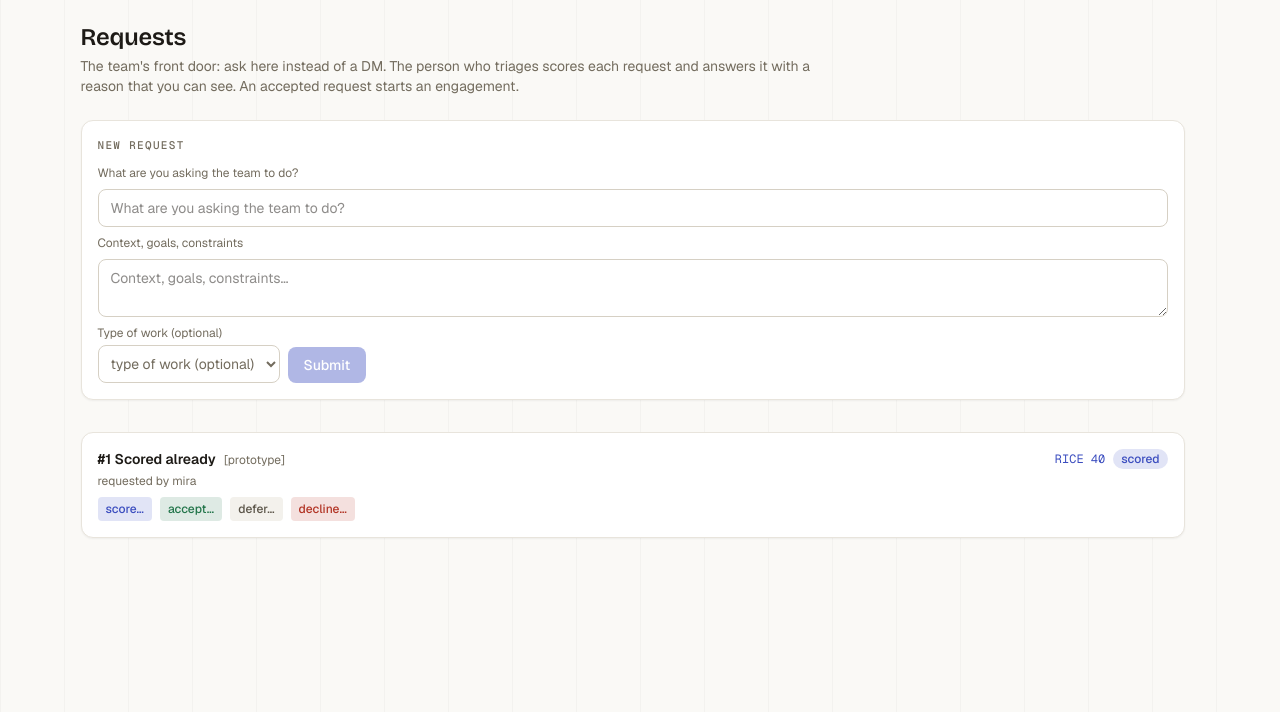
the assumed percent stays inside what the service accepts › clamps above 100 back to 100
Click the button "accept…" at (191, 509), box [160,497,222,521]
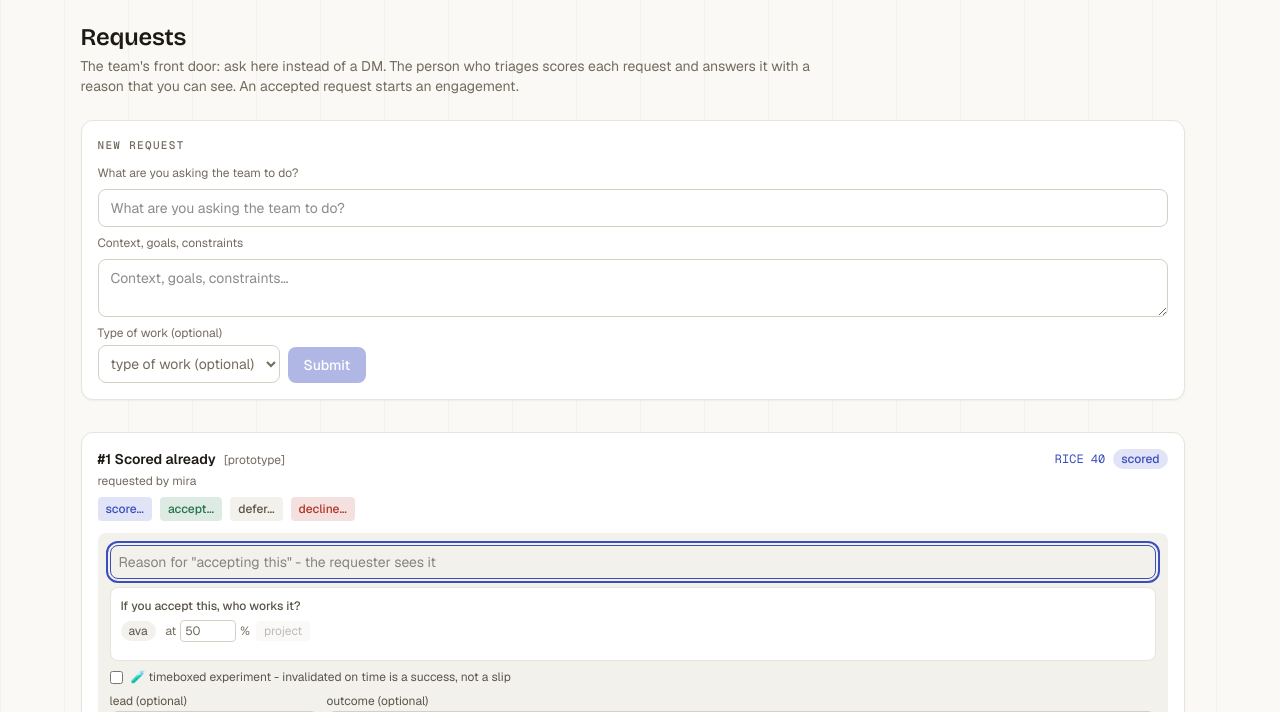
Replace the text in the number field named "Percent of each person" with "400" at (208, 631), box [180,620,236,642]
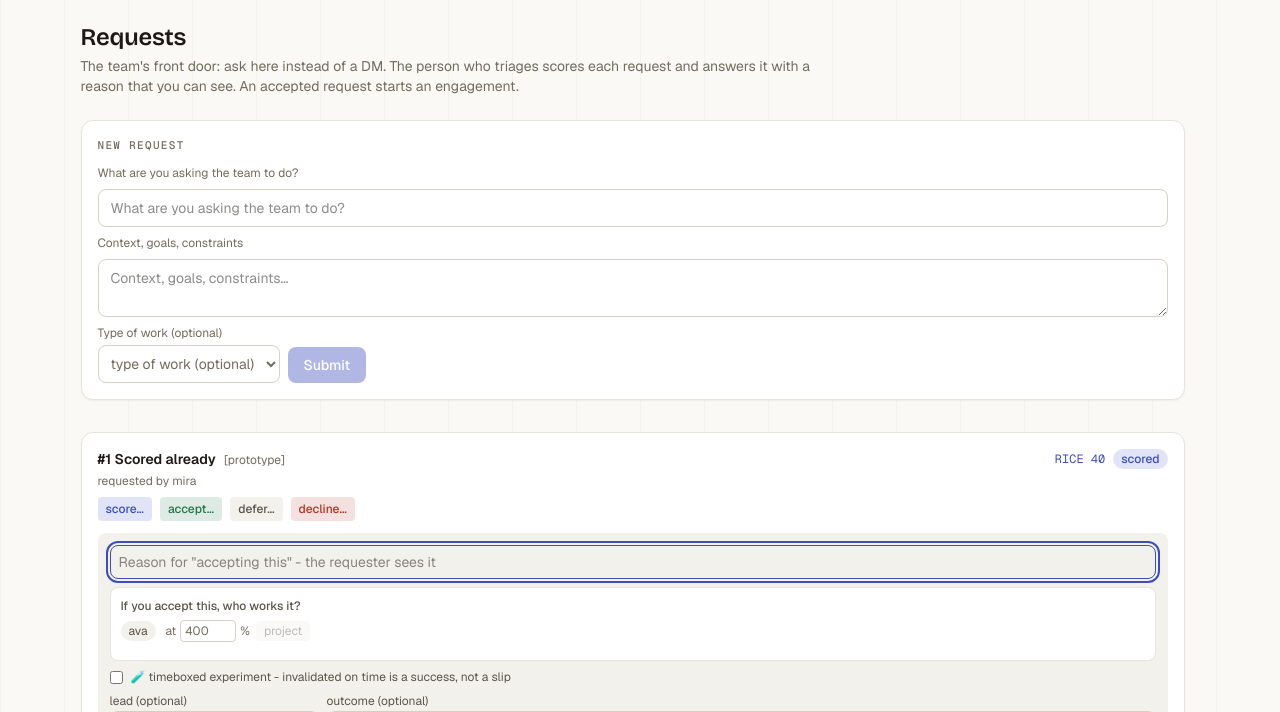
Leave the number field named "Percent of each person", box [180,620,236,642]
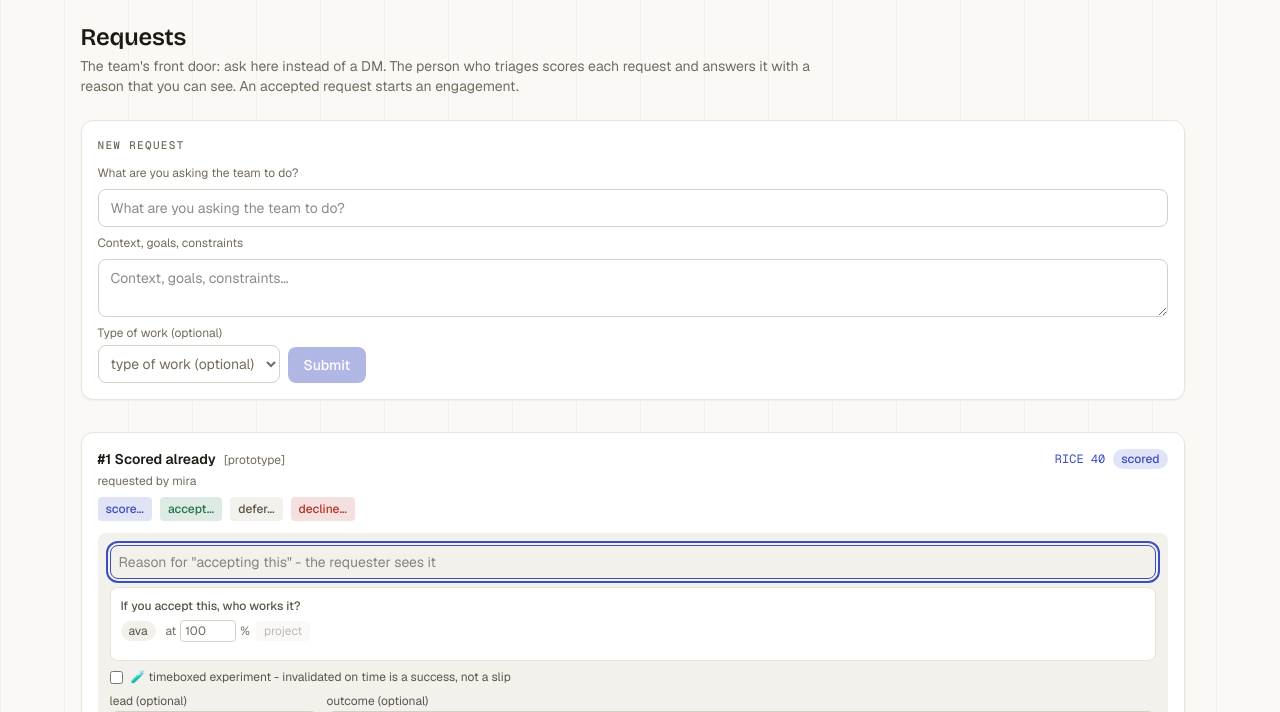
Check: the number field named "Percent of each person" holds "100", box [180,620,236,642]
